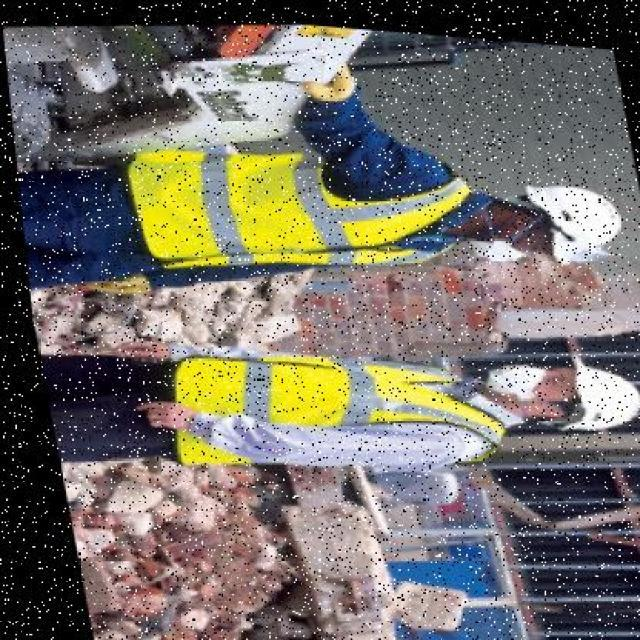helmet: (517, 152, 635, 278), (539, 336, 635, 443)
vest: (120, 123, 482, 291), (148, 326, 495, 490)
